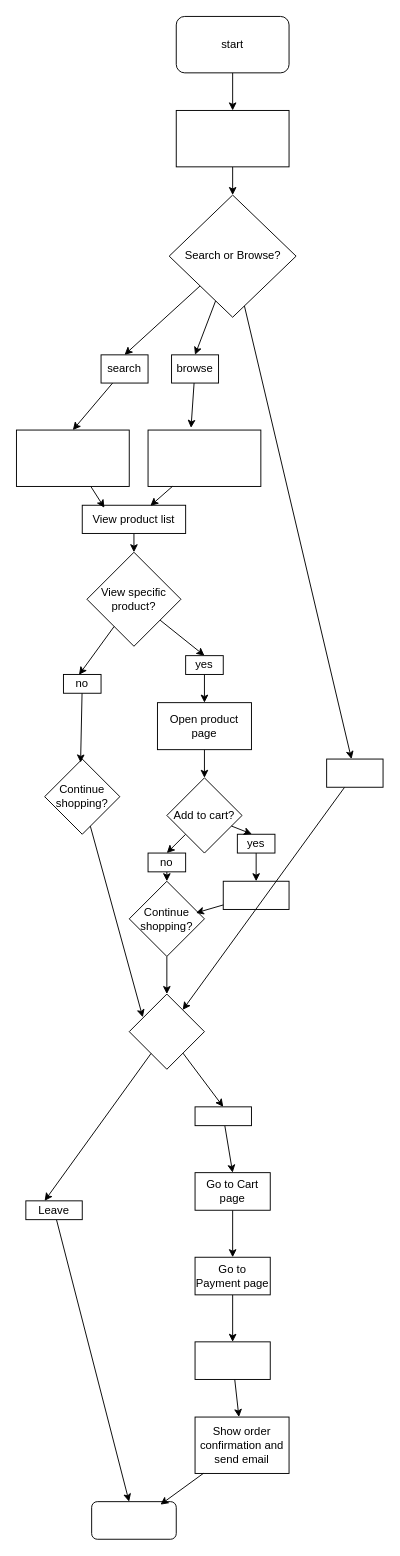
This 400x1556 diagram has some shape labels left out. The centre of each missing label's shape, as x and y in pixels:
"Added to cart" confirm: pixel 255 894
Checkout: pixel 222 1116
Continue: pixel 354 772
continue or checkout?: pixel 166 1031
Enter payment info: pixel 232 1360
Enter search term: pixel 72 457
Enter website: pixel 232 138
Explore home page: pixel 204 457
Leave website: pixel 133 1520
